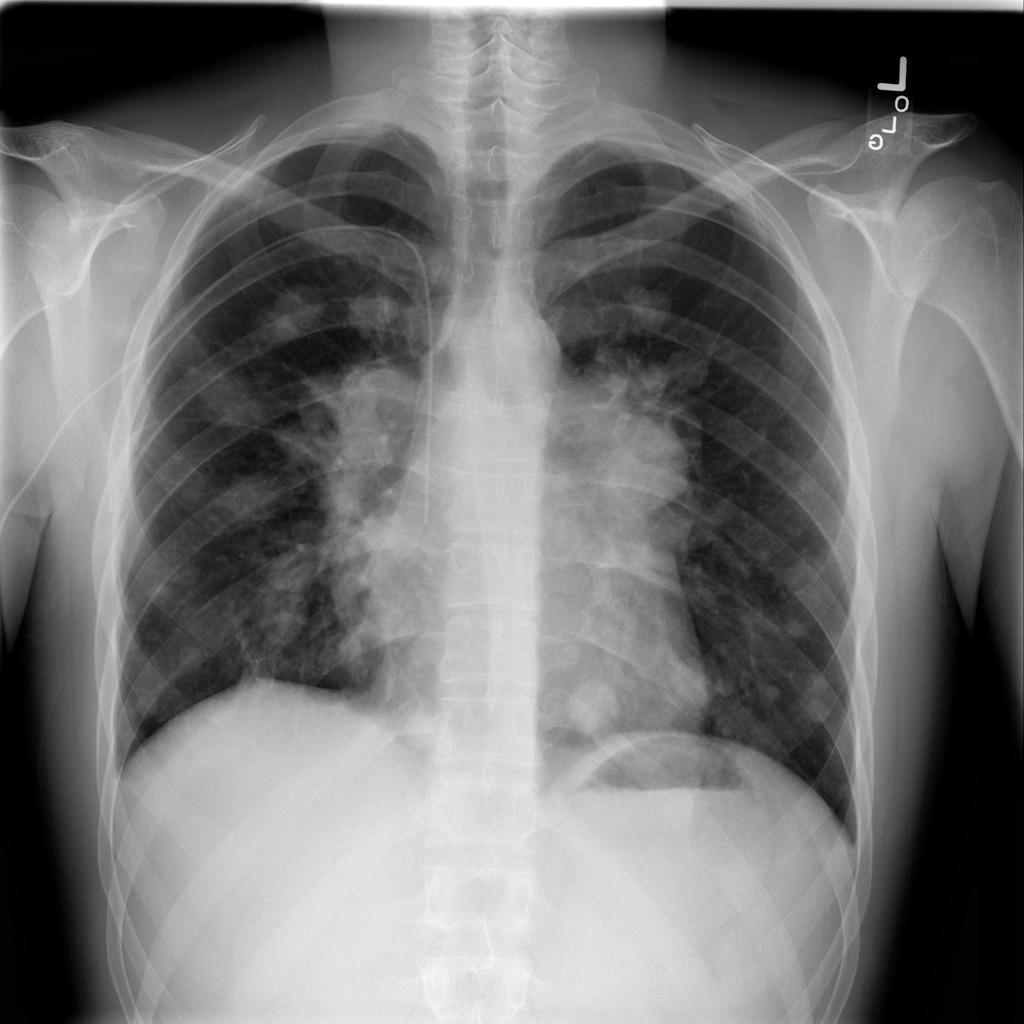nodule: (250, 275, 339, 353), (206, 461, 296, 535), (242, 566, 319, 648), (553, 668, 633, 740), (771, 546, 842, 626), (608, 271, 686, 342), (185, 369, 269, 433), (335, 278, 410, 349), (648, 332, 723, 400), (768, 439, 840, 507), (655, 645, 724, 714), (788, 678, 840, 731), (123, 680, 174, 732), (819, 766, 870, 817), (773, 603, 823, 653), (171, 634, 219, 684)
